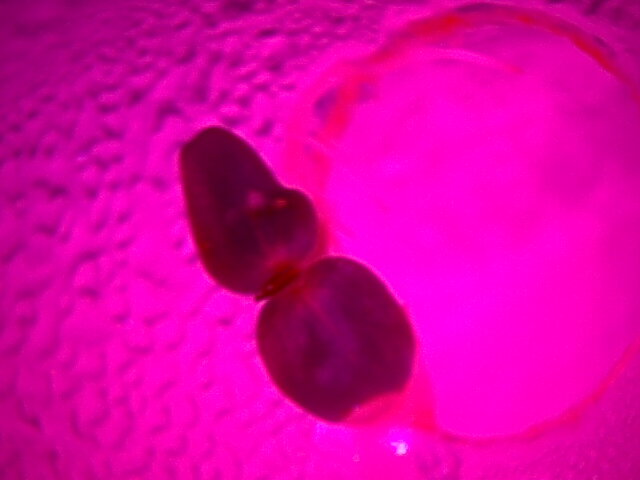seedling: (168, 131, 425, 425)
